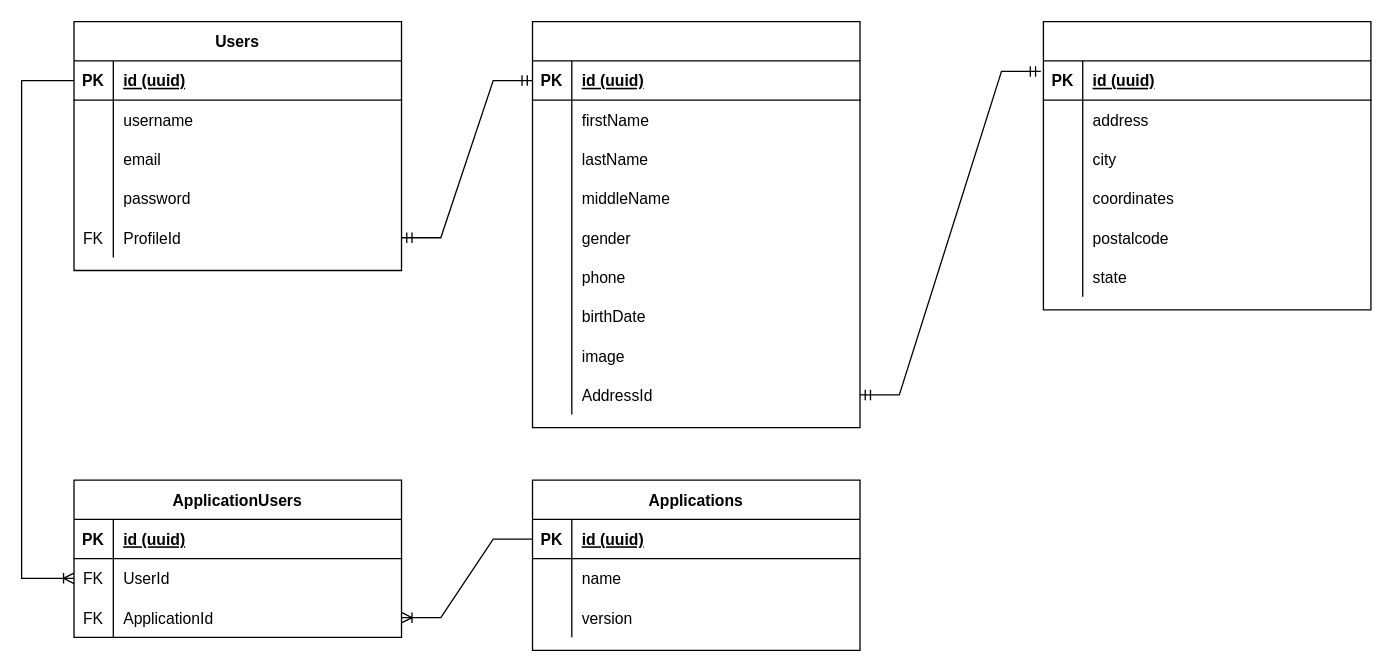
This 1393x672 diagram has some shape labels left out. Here are the shapes that lost their labels. From the top down, the box of each, then its label:
(1042, 20, 1371, 310): Addresses
(531, 20, 860, 428): Profiles
